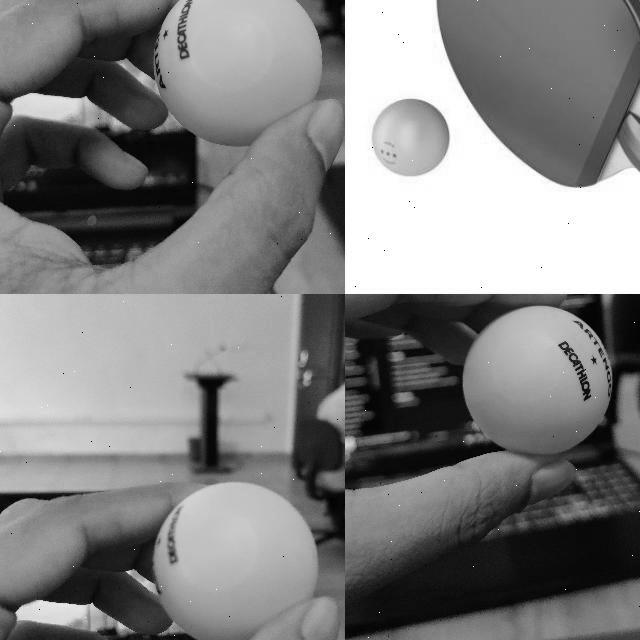ping-pong-ball: (150, 481, 319, 639), (151, 0, 322, 146), (463, 306, 612, 452), (372, 99, 450, 178)
